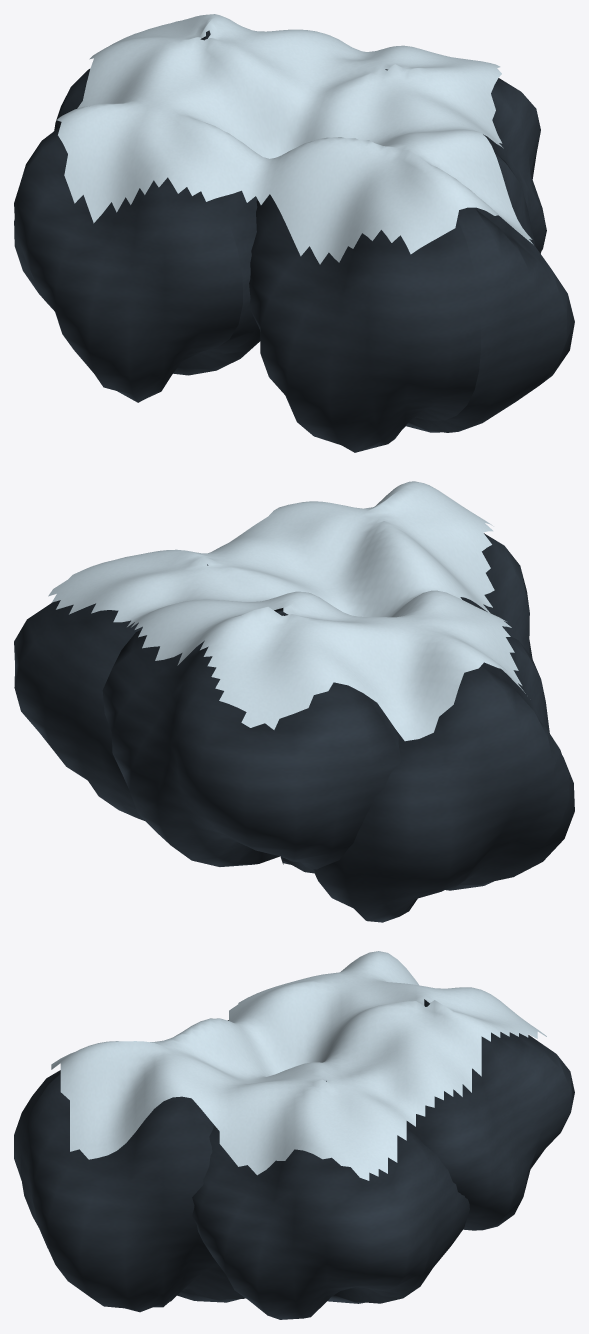
File: fuel.glb
3 views of the same model, one above another, from view 1: azimuth 30°, elevation 25°; view 2: azimuth 150°, elevation 25°; view 3: azimuth 270°, elevation 25° (orthographic). The views are drawn at different scales.
Visible parts, largest first — view 1: fuel; view 2: fuel; view 3: fuel.
Part boxes in pixels (box(x1,y1,x2,y2)): fuel: box(14, 14, 574, 452); fuel: box(14, 481, 574, 922); fuel: box(14, 951, 574, 1319).
Size of the model in its own units: 1.54 by 0.8892 by 1.61.
Materials: 2 (2 with a texture image).
